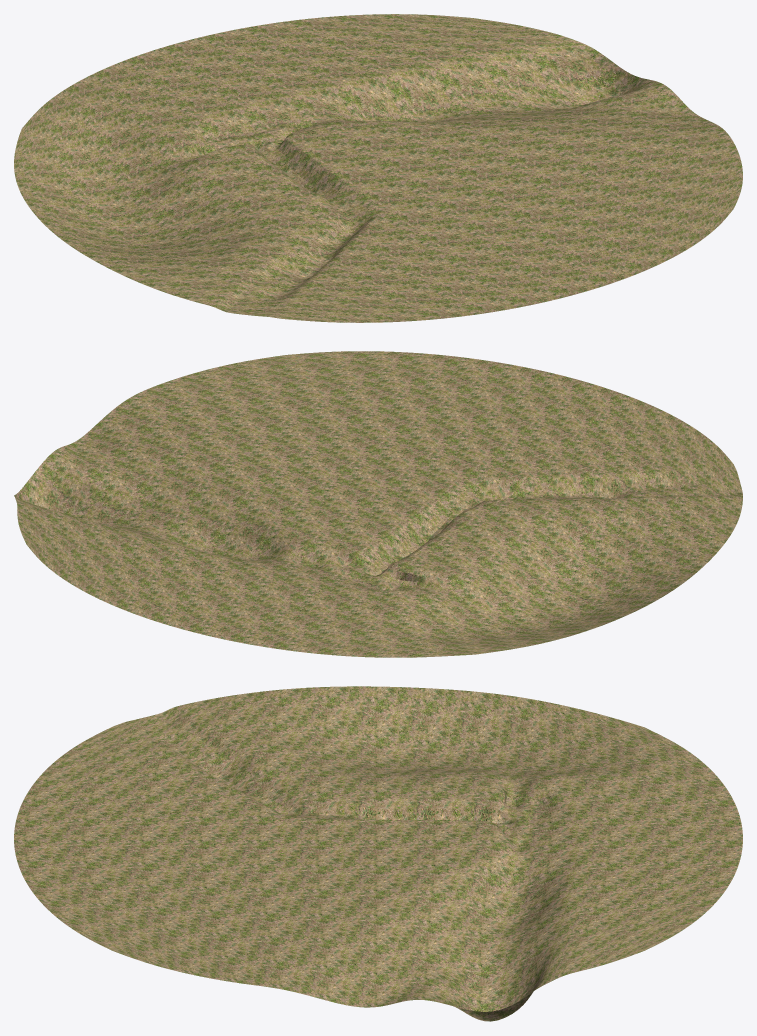
3 renders of one model, top to bottom at view 1: azimuth 30°, elevation 25°; view 2: azimuth 150°, elevation 25°; view 3: azimuth 270°, elevation 25°, orthographic. The views are drawn at different scales.
Parts seen in each view (by area): view 1: Plane011_grass_0; view 2: Plane011_grass_0; view 3: Plane011_grass_0.
Boxes of the visible parts, bbox=[...] form: Plane011_grass_0: bbox=[14, 14, 742, 322]; Plane011_grass_0: bbox=[14, 351, 742, 657]; Plane011_grass_0: bbox=[14, 686, 742, 1021].
Bounding box in the file's own units: 184 × 12.01 × 184.
Materials: 1 (1 with a texture image).
